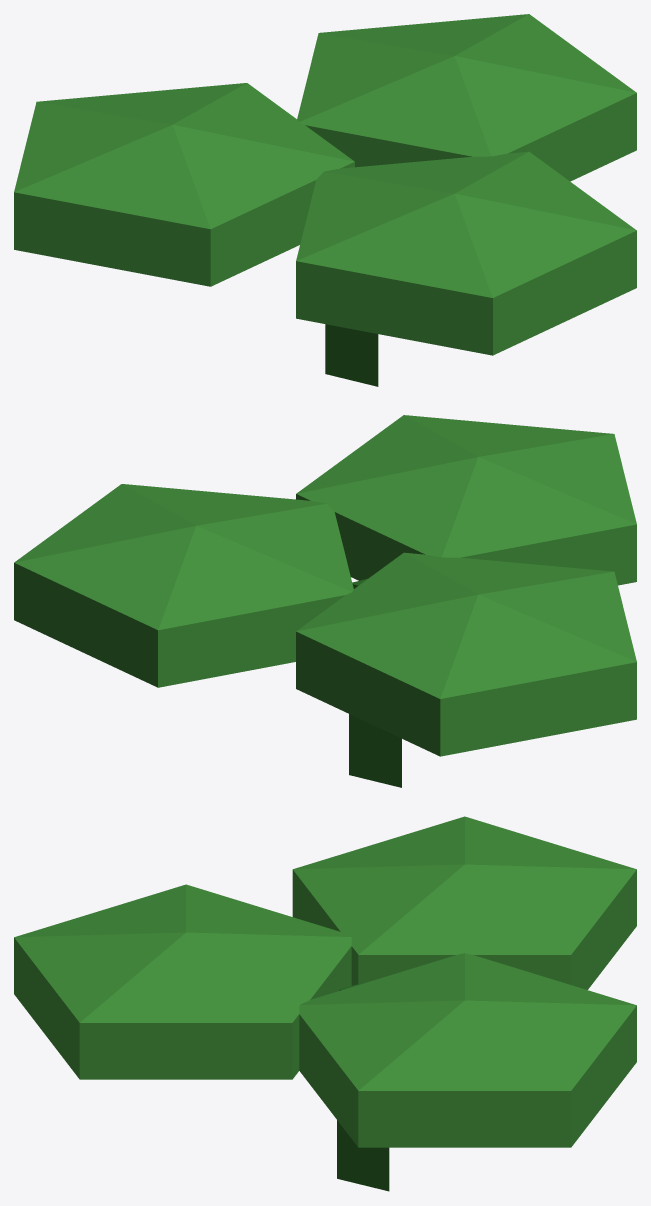
The model's file is biome-clover-clover.glb.
The picture shows the model from 3 angles, top to bottom: view 1: azimuth 30°, elevation 25°; view 2: azimuth 150°, elevation 25°; view 3: azimuth 270°, elevation 25°; orthographic projection.
Bounding box in the file's own units: 0.5591 × 0.234 × 0.5365.
